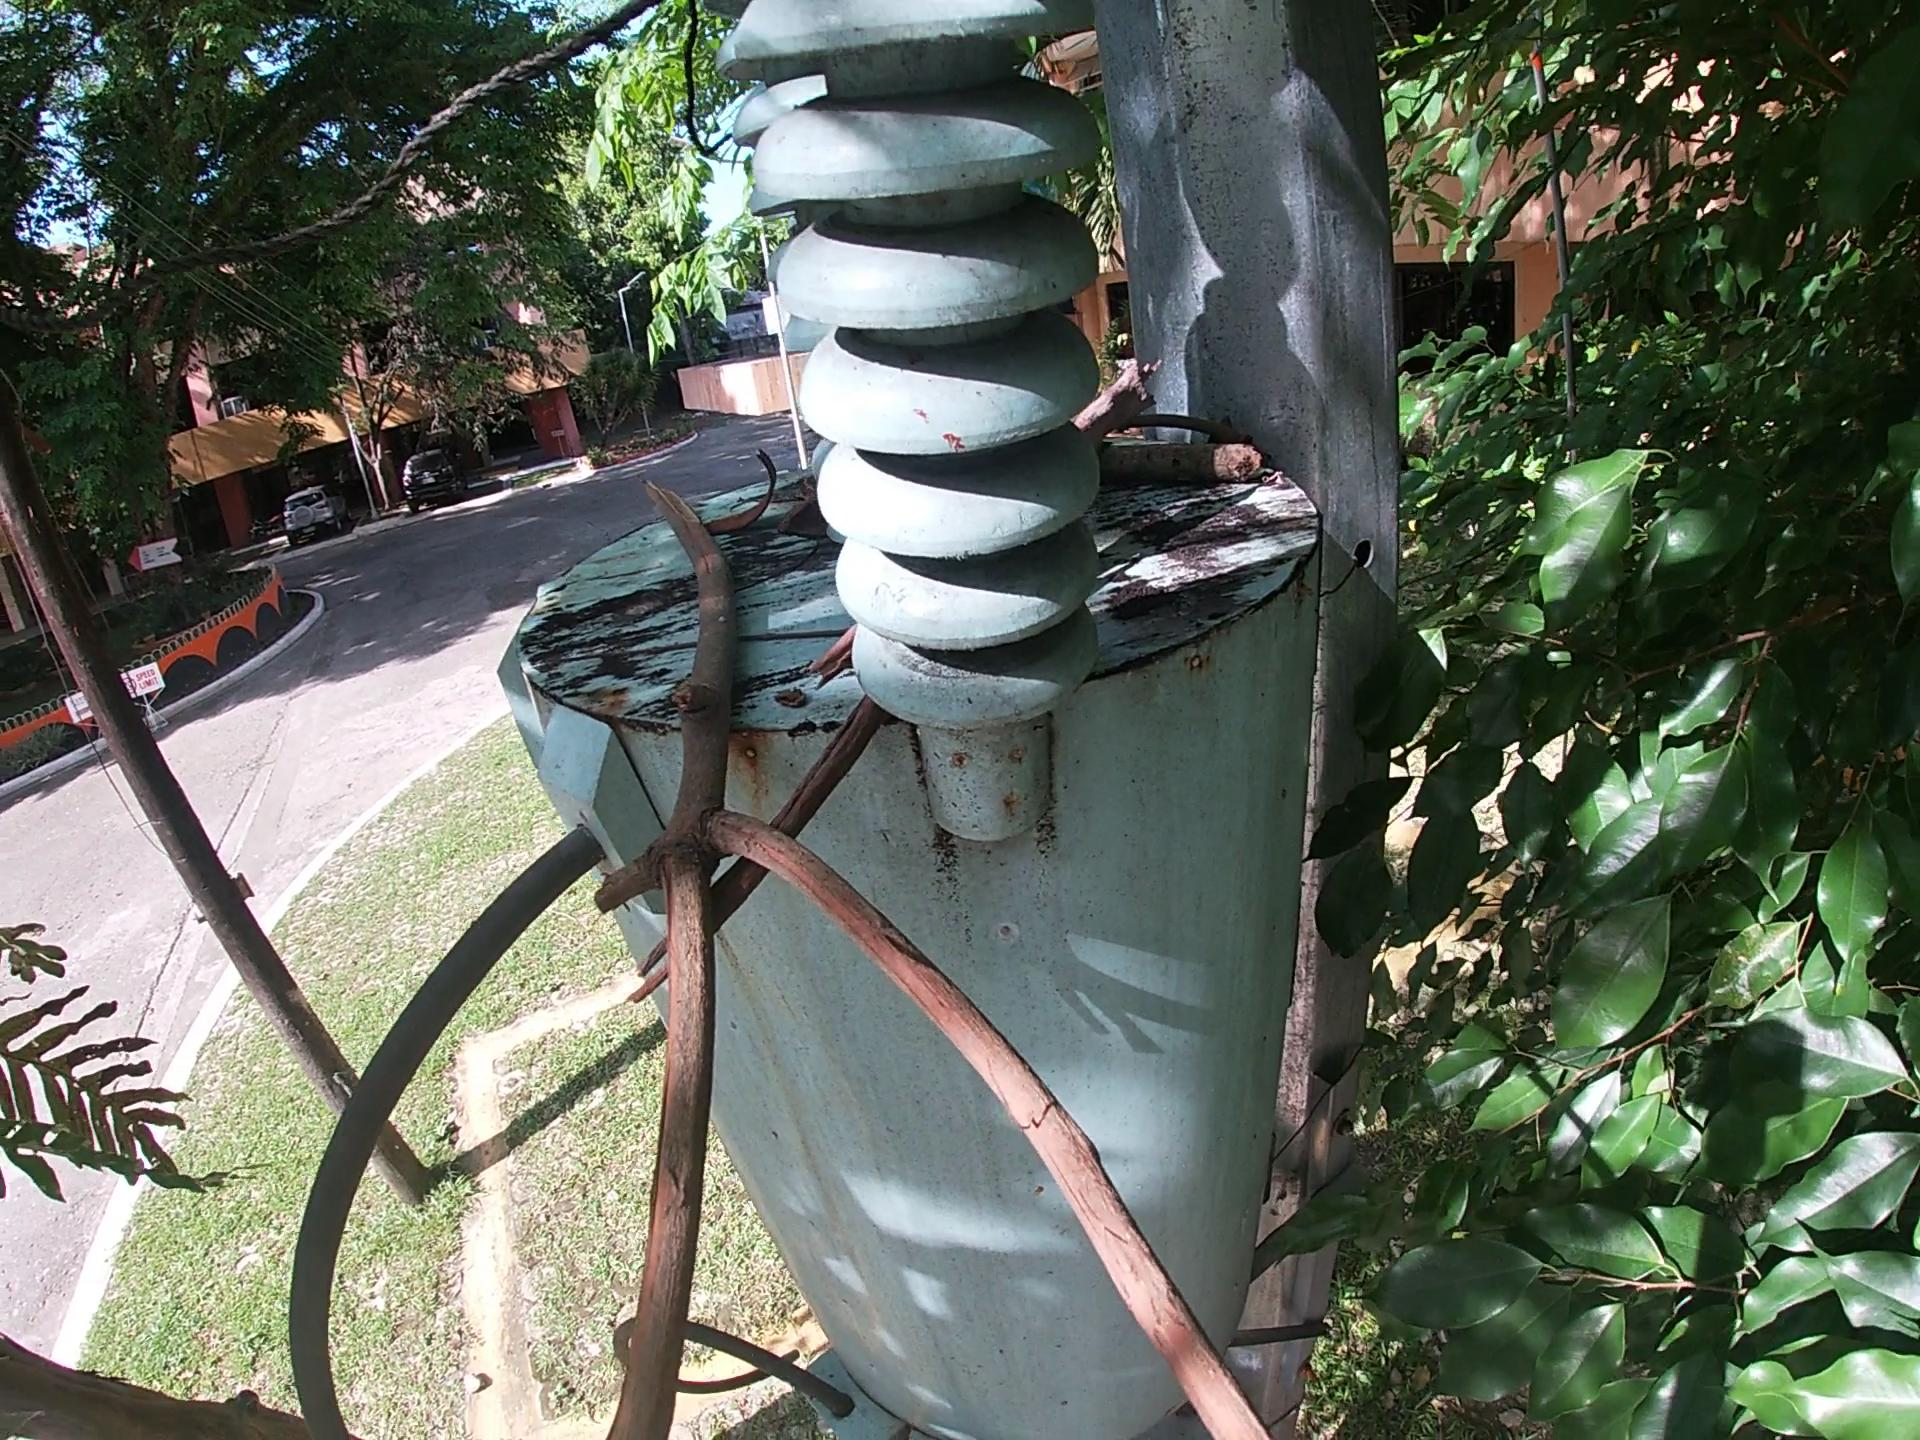mahogany fruit: (709, 437, 777, 537), (785, 505, 819, 558)
tree branch: (596, 473, 1339, 1429), (629, 703, 884, 1030), (571, 622, 835, 672), (1089, 434, 1282, 495), (1076, 348, 1172, 433), (1114, 408, 1277, 440), (809, 625, 856, 696)
